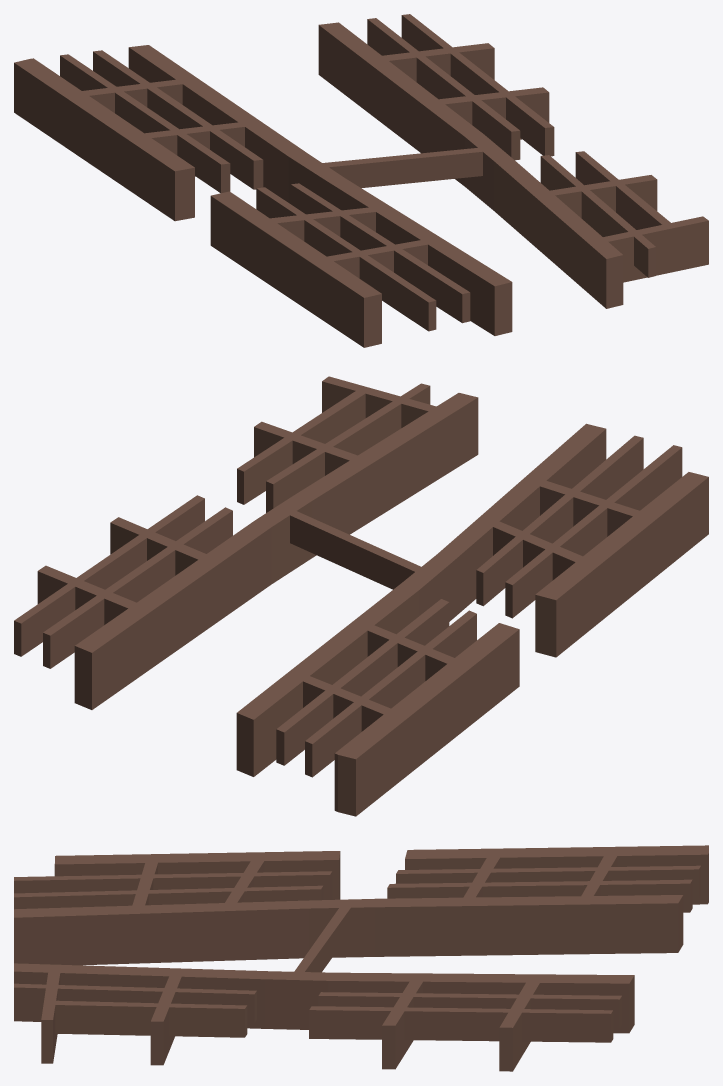
Rendered from Plan_14_-_20.02_Deckenkonstruktion.glb.
3 renders of one model, top to bottom at view 1: azimuth 30°, elevation 25°; view 2: azimuth 150°, elevation 25°; view 3: azimuth 270°, elevation 25°, orthographic. The views are drawn at different scales.
Visible parts, largest first — view 1: Plane.001, Plane.004, Plane.020, Plane.007, Plane.006, Plane.005, Plane.018, Plane.019, Plane.012, Plane.015, Plane.017, Plane.002 (+9 smaller); view 2: Plane.001, Plane.004, Plane.020, Plane.007, Plane.015, Plane.006, Plane.017, Plane.005, Plane.018, Plane.019, Plane.008, Plane.012 (+9 smaller); view 3: Plane.004, Plane.001, Plane.017, Plane.020, Plane.007, Plane.009, Plane.006, Plane.019, Plane.005, Plane.015, Plane.018, Plane.008 (+9 smaller).
Part boxes in pixels (box(x1,y1,x2,y2)): Plane.001: box(318, 22, 623, 308); Plane.004: box(128, 45, 512, 335); Plane.020: box(14, 58, 194, 221); Plane.007: box(210, 191, 381, 347); Plane.006: box(256, 187, 436, 331); Plane.005: box(290, 183, 470, 323); Plane.018: box(60, 54, 230, 193); Plane.019: box(93, 50, 263, 189); Plane.012: box(322, 148, 482, 188); Plane.015: box(367, 18, 520, 160); Plane.017: box(401, 14, 554, 156); Plane.002: box(603, 216, 708, 282); Plane.001: box(74, 393, 478, 709); Plane.004: box(236, 423, 606, 776); Plane.020: box(334, 623, 519, 816); Plane.007: box(535, 472, 708, 657); Plane.015: box(43, 507, 232, 668); Plane.006: box(505, 445, 682, 618); Plane.017: box(14, 495, 204, 656); Plane.005: box(476, 435, 643, 606); Plane.018: box(305, 610, 476, 777); Plane.019: box(276, 599, 449, 765); Plane.008: box(266, 383, 430, 512); Plane.012: box(290, 511, 420, 589); Plane.004: box(14, 895, 683, 965); Plane.001: box(14, 963, 634, 1033); Plane.017: box(309, 1006, 613, 1042); Plane.020: box(405, 845, 708, 904); Plane.007: box(54, 851, 340, 899); Plane.009: box(55, 1000, 247, 1037); Plane.006: box(14, 871, 332, 899); Plane.019: box(387, 879, 692, 912); Plane.005: box(14, 885, 323, 909); Plane.015: box(318, 992, 621, 1028); Plane.018: box(396, 865, 700, 898); Plane.008: box(14, 983, 256, 1022).
Bounding box in the file's own units: 13.16 × 1.67 × 21.18.
